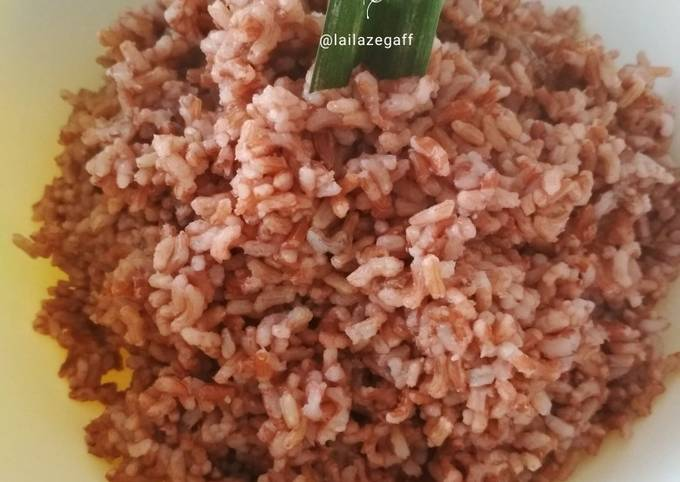Nasi Merah: (32, 9, 674, 479)
